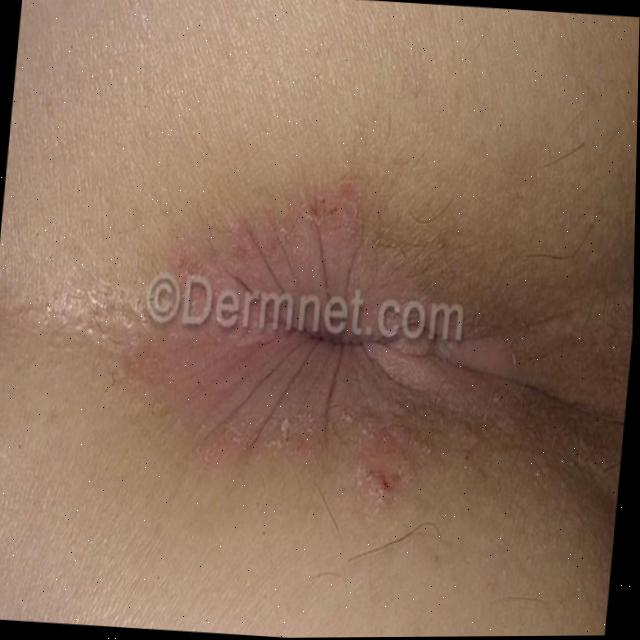Eczema: (298, 166, 360, 237), (340, 447, 422, 498), (187, 209, 247, 261)
